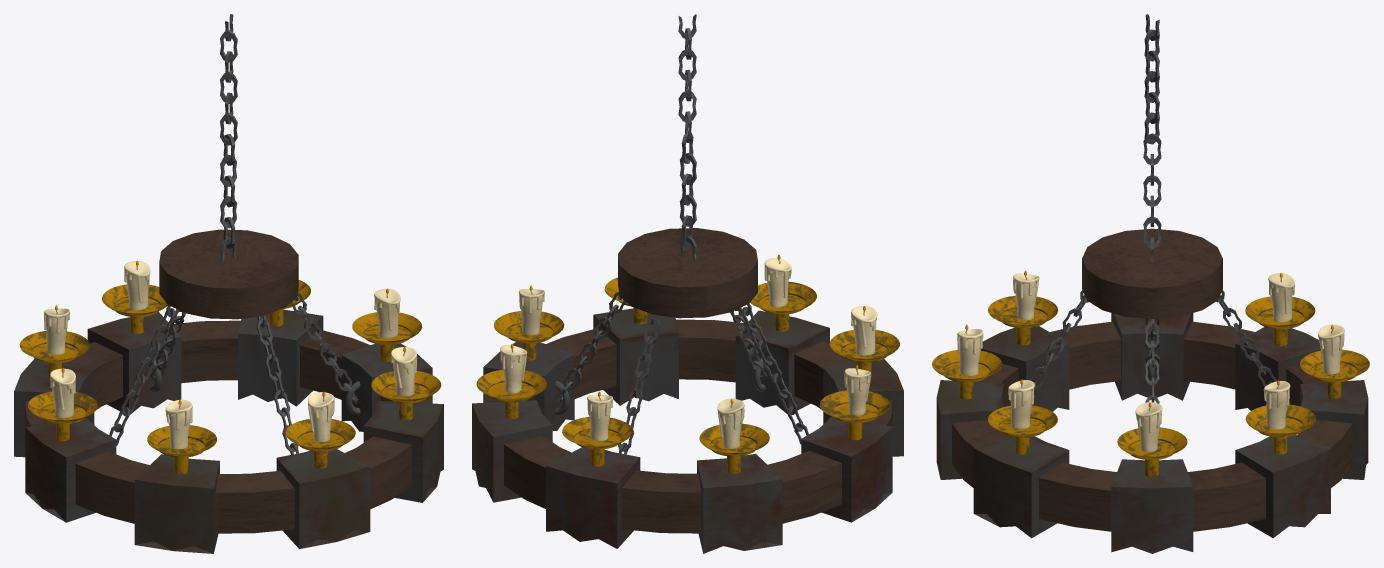
File: chandelier.fbx
The picture shows the model from 3 angles, left to right: view 1: azimuth 30°, elevation 25°; view 2: azimuth 150°, elevation 25°; view 3: azimuth 270°, elevation 25°; orthographic projection.
Parts seen in each view (by area): view 1: Cylinder.023; view 2: Cylinder.023; view 3: Cylinder.023.
Boxes of the visible parts, bbox=[...] form: Cylinder.023: bbox=[14, 14, 443, 553]; Cylinder.023: bbox=[472, 14, 903, 553]; Cylinder.023: bbox=[932, 14, 1369, 553].
Size of the model in its own units: 252 by 278 by 248.
Materials: 1 (1 with a texture image).
